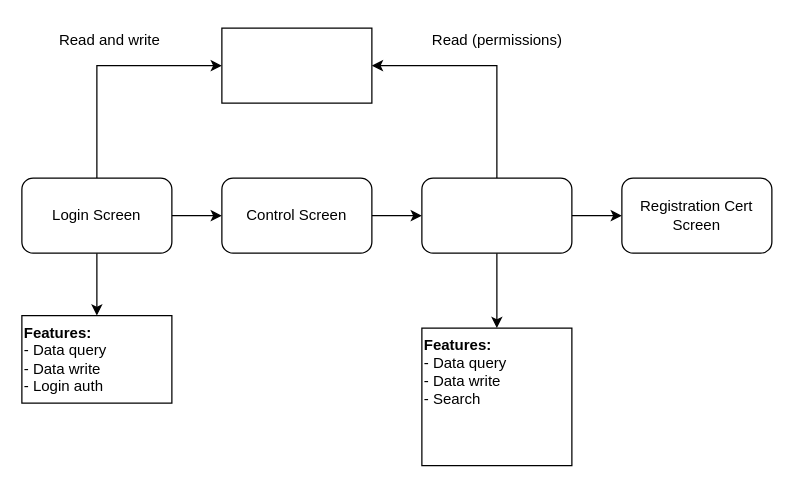
Image size: 794x488. Some labels were removed from this diagram. Here are the shapes that lost their labels. From the top down, the centre of each, then its label:
At point 296,65: "Persistent: CurrentUserInfo".
At point 496,215: "Data Screen".
